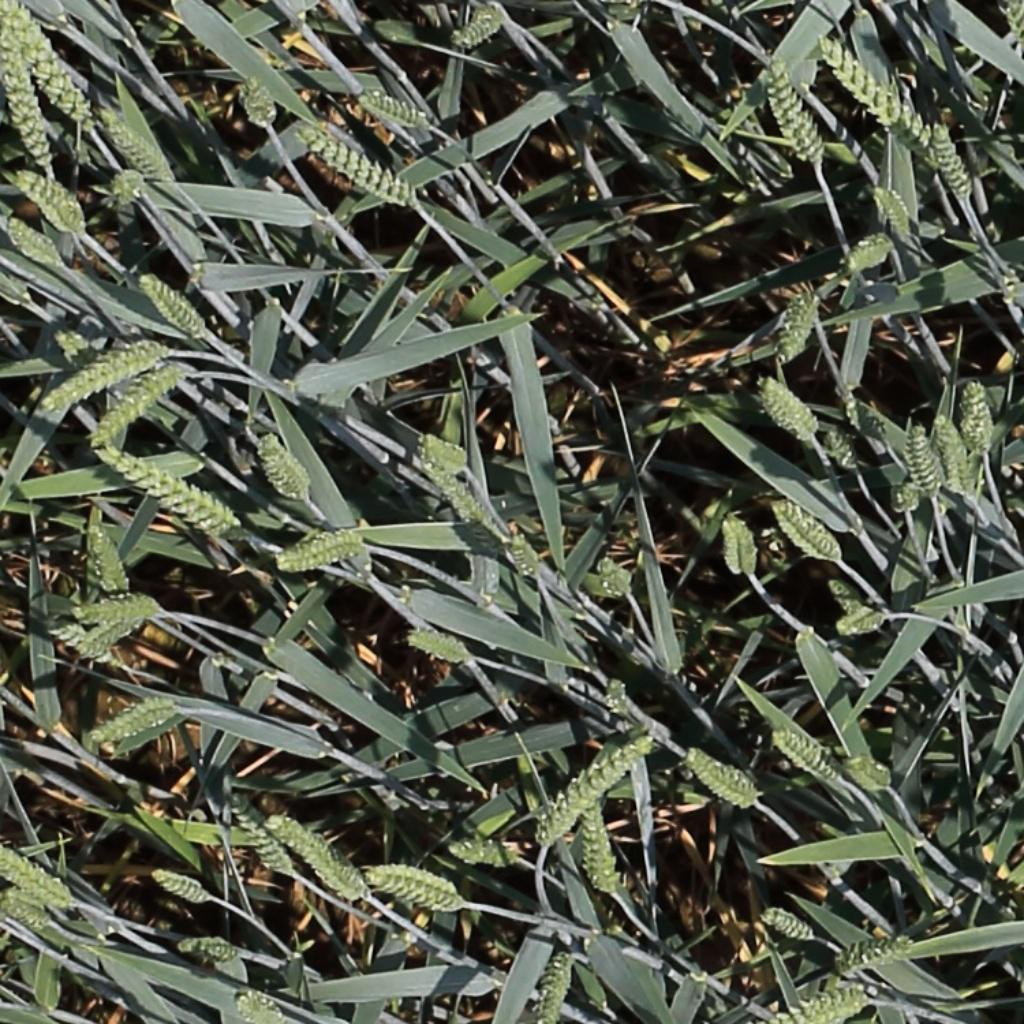0-0: (817, 31, 943, 152), (535, 734, 658, 846), (9, 2, 100, 137), (99, 446, 234, 525), (299, 121, 417, 204), (270, 815, 370, 905), (0, 19, 53, 170), (45, 342, 166, 406), (764, 51, 830, 167), (91, 364, 184, 446), (223, 787, 296, 884), (95, 102, 176, 182), (0, 809, 66, 905), (421, 454, 491, 528), (12, 166, 87, 233), (139, 270, 208, 341), (772, 498, 845, 563), (686, 749, 759, 811), (760, 372, 823, 443), (774, 729, 847, 790), (83, 514, 133, 602), (256, 427, 314, 502), (931, 409, 977, 501), (929, 116, 976, 203), (585, 795, 621, 905), (368, 873, 461, 912), (92, 701, 176, 744), (778, 283, 821, 367), (49, 622, 122, 669), (2, 212, 62, 267), (873, 178, 920, 245), (907, 419, 944, 503), (277, 535, 365, 570), (536, 947, 577, 1022), (844, 388, 891, 453), (838, 937, 916, 976), (779, 991, 869, 1022), (505, 524, 547, 587), (962, 374, 993, 458), (238, 68, 278, 133), (723, 509, 757, 582), (359, 91, 431, 125), (823, 423, 864, 480), (453, 6, 506, 49), (406, 630, 473, 664), (150, 871, 211, 905), (419, 432, 469, 472), (73, 600, 161, 621), (2, 892, 49, 931), (765, 910, 820, 943), (596, 554, 636, 598), (846, 236, 895, 268), (845, 759, 894, 790), (450, 845, 521, 866), (234, 995, 282, 1024), (181, 939, 240, 962), (836, 610, 891, 634)
